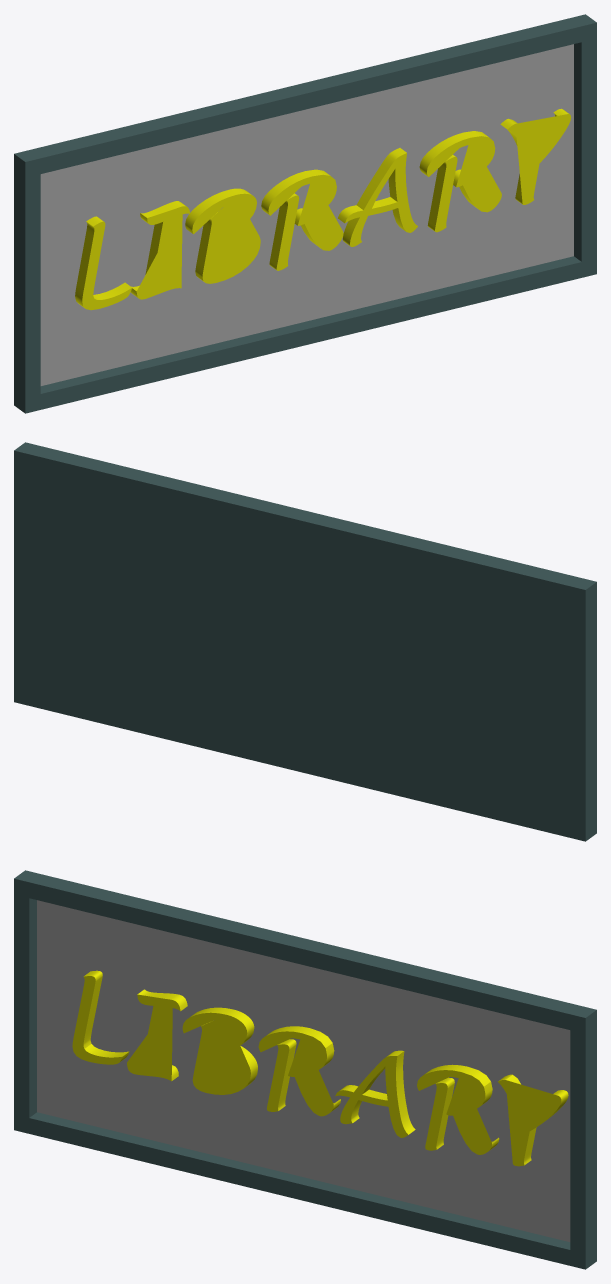
File: Library.fbx
The picture shows the model from 3 angles, top to bottom: view 1: azimuth 30°, elevation 25°; view 2: azimuth 150°, elevation 25°; view 3: azimuth 330°, elevation 25°; orthographic projection.
Visible parts, largest first — view 1: Library; view 2: Library; view 3: Library.
Boxes of the visible parts, left/top/right/bottom form: Library: left=14, top=14, right=596, bottom=413; Library: left=14, top=442, right=596, bottom=841; Library: left=14, top=870, right=596, bottom=1269.
Size of the model in its own units: 86.64 by 36.44 by 2.98.
